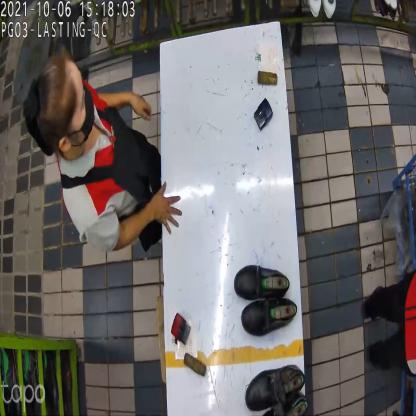shoes: (232, 258, 297, 332), (244, 364, 308, 416)
stamp: (170, 314, 192, 345), (254, 97, 274, 131)
